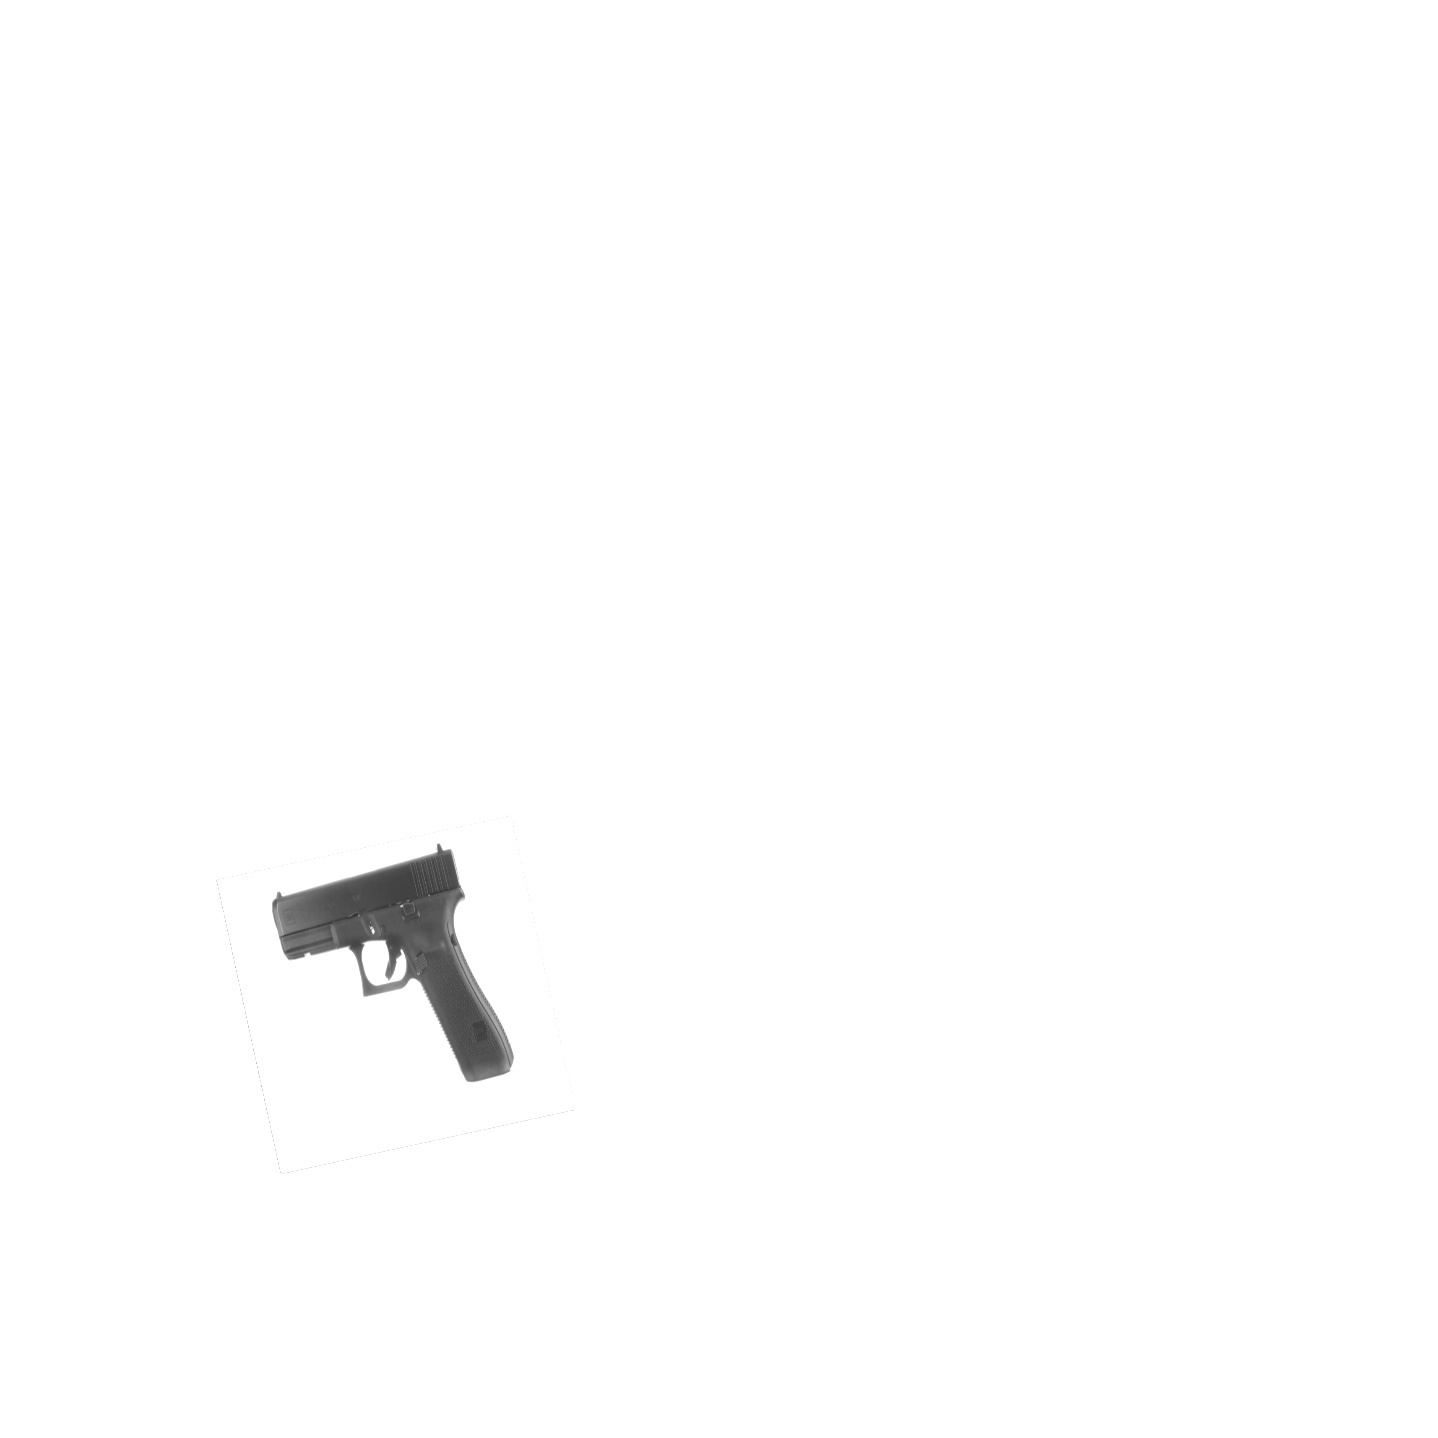gun: (271, 843, 515, 1082)
